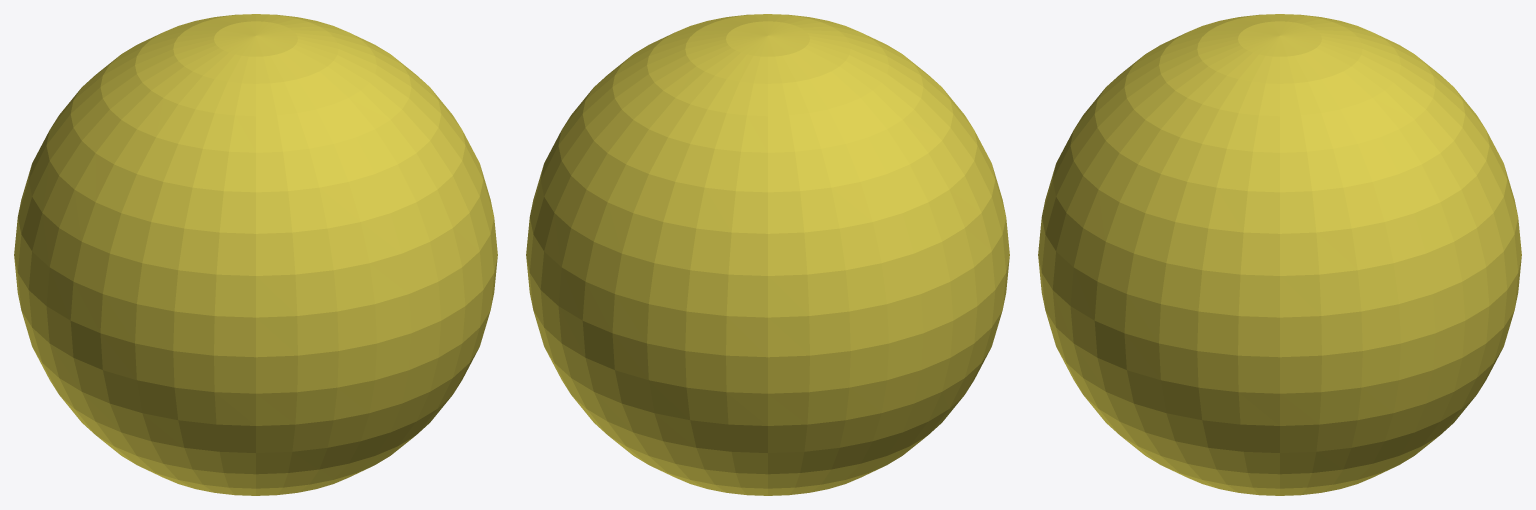
The model's file is Mag.glb.
The picture shows the model from 3 angles, left to right: view 1: azimuth 30°, elevation 25°; view 2: azimuth 150°, elevation 25°; view 3: azimuth 270°, elevation 25°; orthographic projection.
Visible parts, largest first — view 1: Mesh_Mesh_head_geo.001_lambert2SG.001; view 2: Mesh_Mesh_head_geo.001_lambert2SG.001; view 3: Mesh_Mesh_head_geo.001_lambert2SG.001.
Part boxes in pixels (left/top/right/bottom): Mesh_Mesh_head_geo.001_lambert2SG.001: left=14, top=14, right=497, bottom=495; Mesh_Mesh_head_geo.001_lambert2SG.001: left=526, top=14, right=1009, bottom=495; Mesh_Mesh_head_geo.001_lambert2SG.001: left=1038, top=14, right=1521, bottom=495.
Size of the model in its own units: 10 by 10 by 10.
